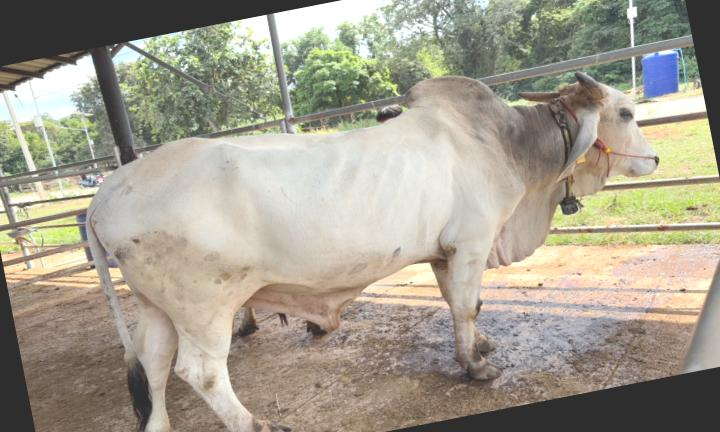Brahman: (86, 72, 657, 432)
